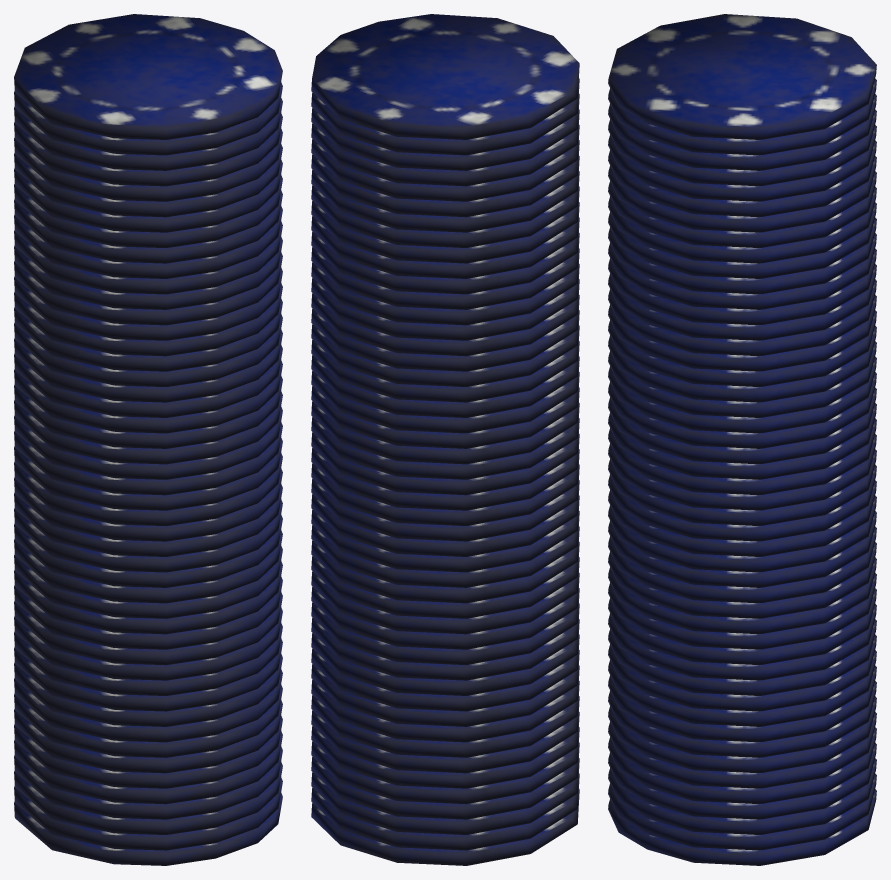
The model's file is Coin.fbx_Collection_PokerChip_Blue.fbx.
3 views of the same model, side by side, from view 1: azimuth 30°, elevation 25°; view 2: azimuth 150°, elevation 25°; view 3: azimuth 270°, elevation 25° (orthographic).
Parts seen in each view (by area): view 1: PokerChip_Blue; view 2: PokerChip_Blue; view 3: PokerChip_Blue.
Part boxes in pixels (x1,y1,x2,y2): PokerChip_Blue: (14,14,282,865); PokerChip_Blue: (311,14,579,865); PokerChip_Blue: (608,14,876,865).
Size of the model in its own units: 15.75 by 47.82 by 15.78.
